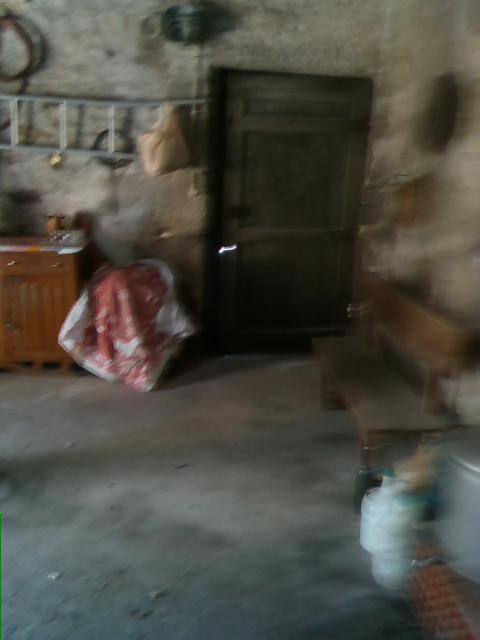door: (201, 65, 374, 355)
